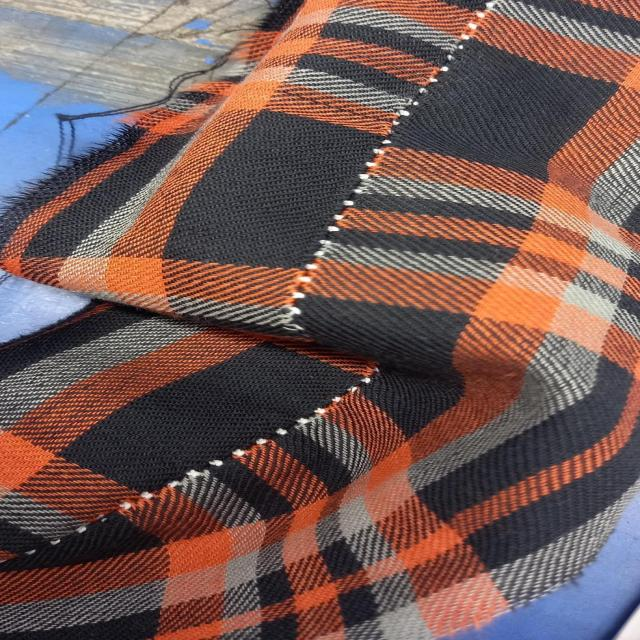gray stitch: (275, 3, 509, 338), (156, 370, 360, 492)
